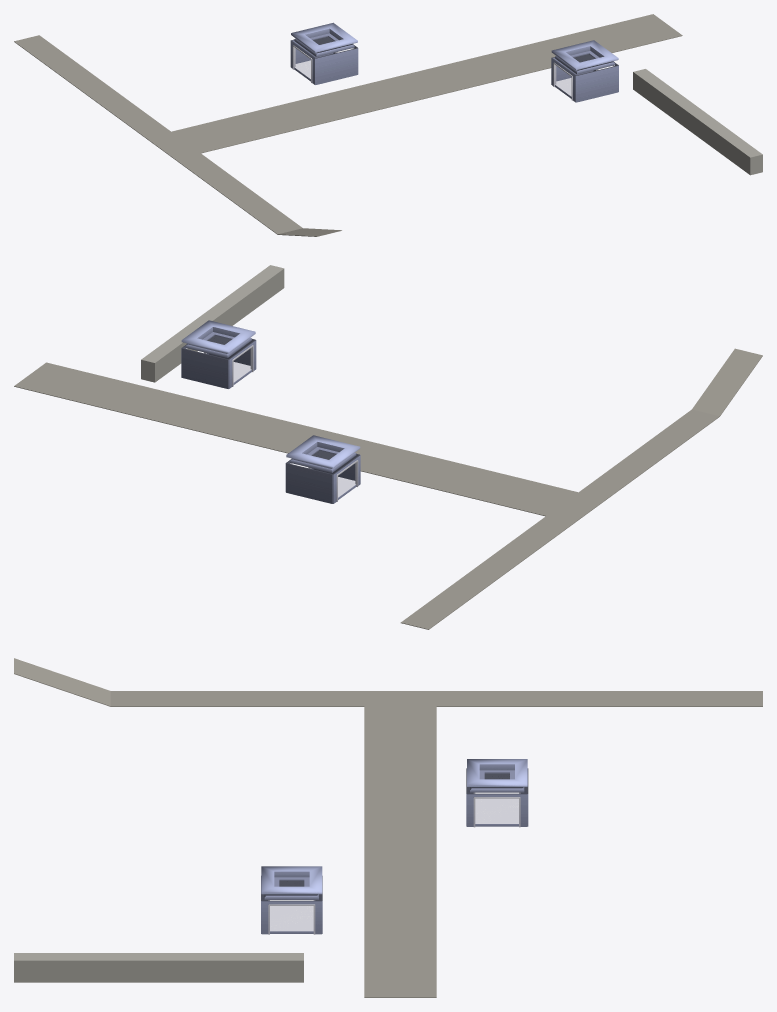
Rendered from town-2-0.glb.
The picture shows the model from 3 angles, top to bottom: view 1: azimuth 30°, elevation 25°; view 2: azimuth 150°, elevation 25°; view 3: azimuth 270°, elevation 25°; orthographic projection. The views are drawn at different scales.
Visible parts, largest first — view 1: town-2-0; view 2: town-2-0; view 3: town-2-0.
Part boxes in pixels (<box>): town-2-0: <box>14,14,762,236</box>; town-2-0: <box>14,265,762,629</box>; town-2-0: <box>14,658,762,997</box>.
Size of the model in its own units: 120 by 11.68 by 124.
Materials: 19 (16 with a texture image).
